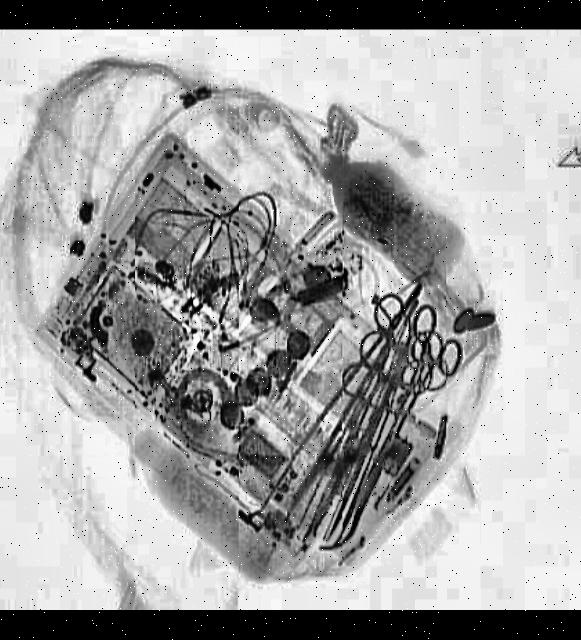Scissors: (357, 304, 474, 451)
